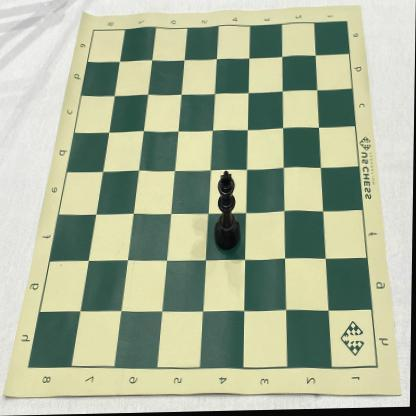black-king: (215, 171, 242, 252)
